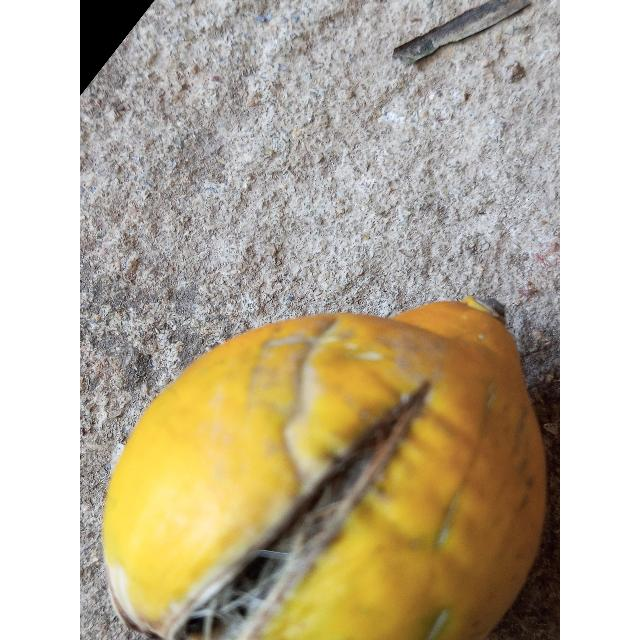damaged: (101, 298, 548, 640)
